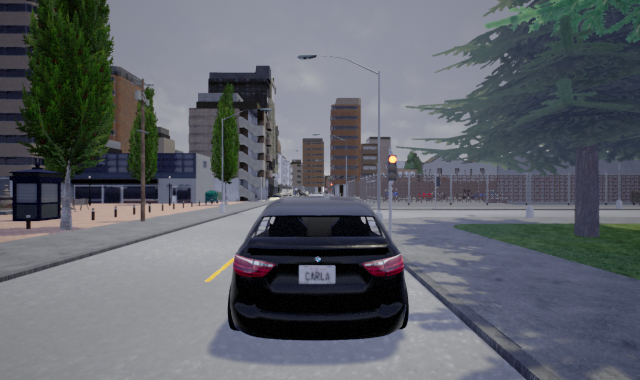traffic_light: (387, 154, 398, 181)
vehicle: (227, 196, 409, 341)
